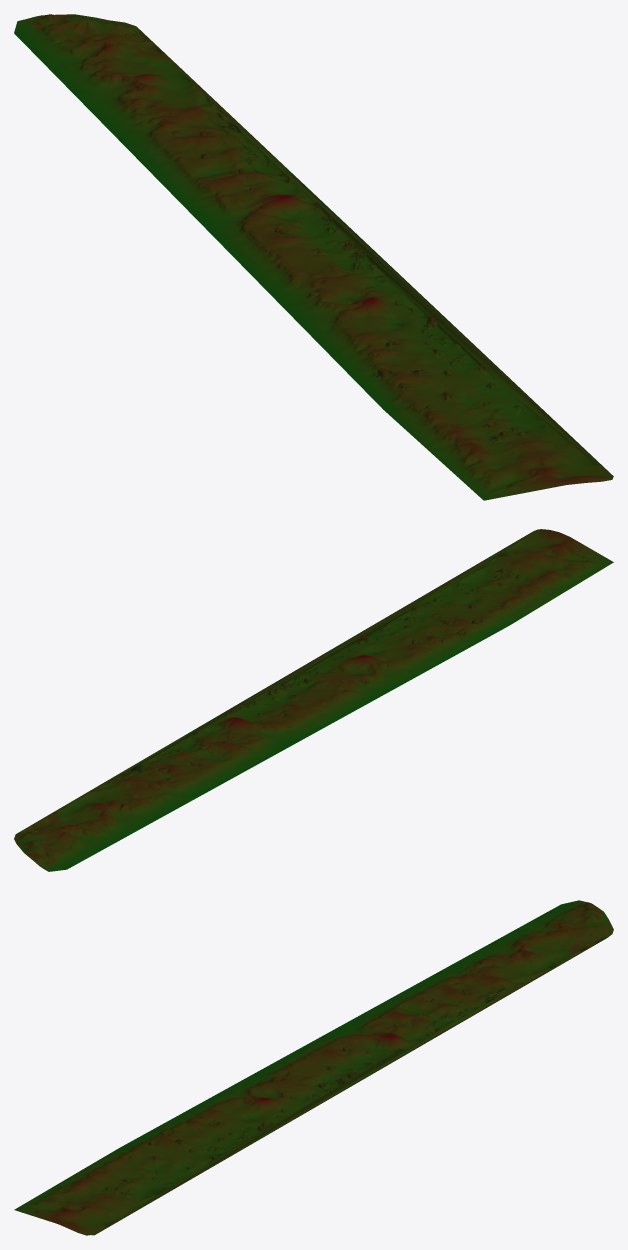
File: OmrOne20.obj
3 renders of one model, top to bottom at view 1: azimuth 30°, elevation 25°; view 2: azimuth 150°, elevation 25°; view 3: azimuth 330°, elevation 25°, orthographic. The views are drawn at different scales.
Parts seen in each view (by area): view 1: OmrOne2020Lp_TIN.001; view 2: OmrOne2020Lp_TIN.001; view 3: OmrOne2020Lp_TIN.001.
Boxes of the visible parts, left/top/right/bottom form: OmrOne2020Lp_TIN.001: left=14, top=14, right=613, bottom=500; OmrOne2020Lp_TIN.001: left=14, top=529, right=613, bottom=871; OmrOne2020Lp_TIN.001: left=14, top=900, right=613, bottom=1235.
Size of the model in its own units: 187 by 10.01 by 908.
